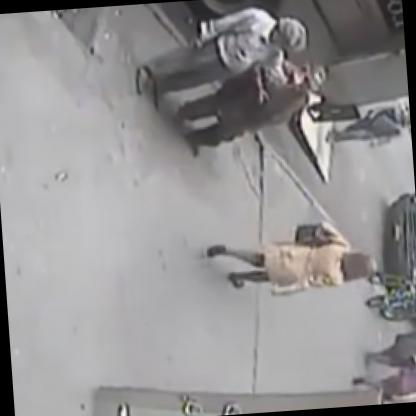Human Body: (126, 0, 319, 121), (166, 42, 338, 162), (203, 216, 383, 306)
